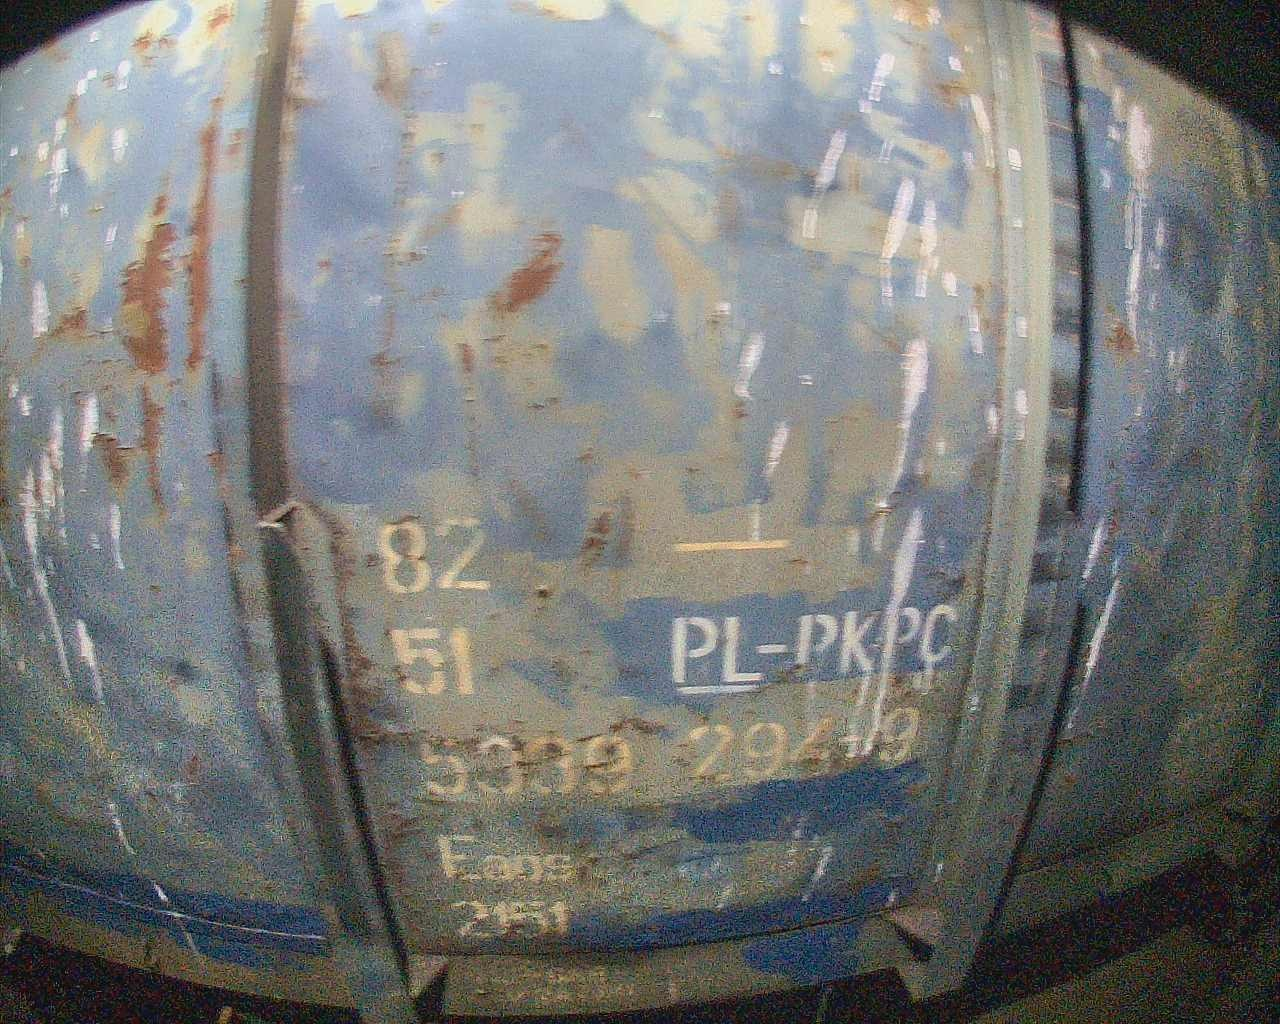UIC: (360, 512, 961, 952)
